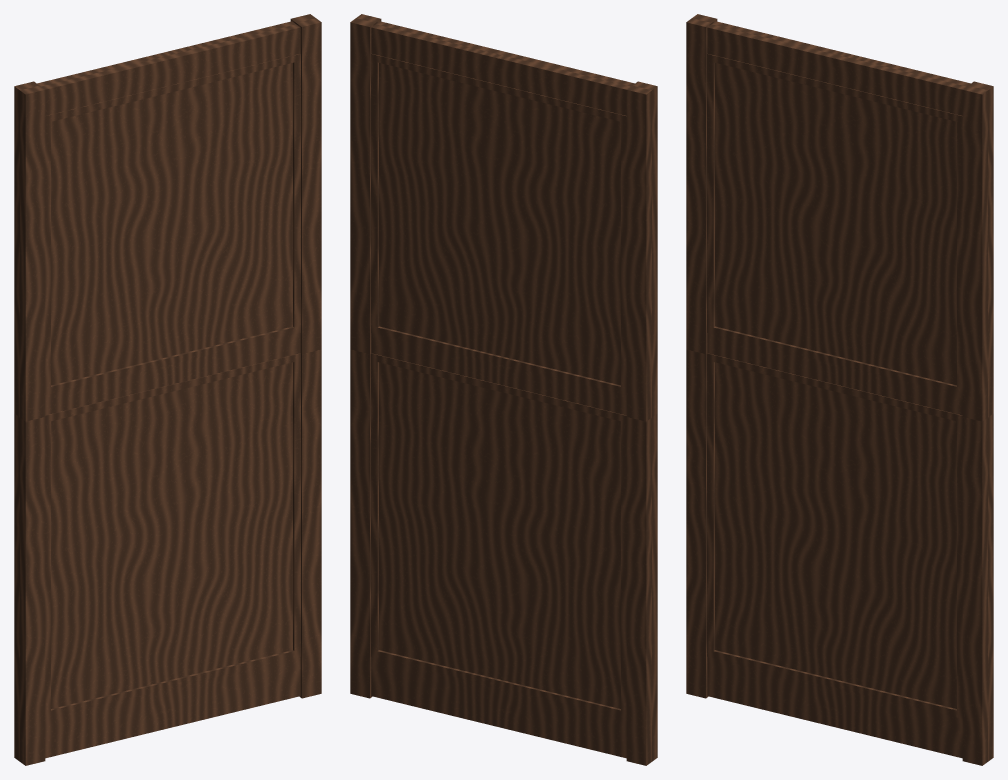
Rendered from X14_PART_Panel_Wood_090.glb.
3 renders of one model, left to right at view 1: azimuth 30°, elevation 25°; view 2: azimuth 150°, elevation 25°; view 3: azimuth 330°, elevation 25°, orthographic.
Parts seen in each view (by area): view 1: X14_PART_Panel_Wood_090_LOD0; view 2: X14_PART_Panel_Wood_090_LOD0; view 3: X14_PART_Panel_Wood_090_LOD0.
Part boxes in pixels (x1=…): X14_PART_Panel_Wood_090_LOD0: x1=14, y1=14, x2=321, y2=765; X14_PART_Panel_Wood_090_LOD0: x1=350, y1=14, x2=657, y2=765; X14_PART_Panel_Wood_090_LOD0: x1=686, y1=14, x2=993, y2=765.
Size of what is drawn, in the model's own units: 0.9 by 1.95 by 0.06.
1 material, 1 textured.
